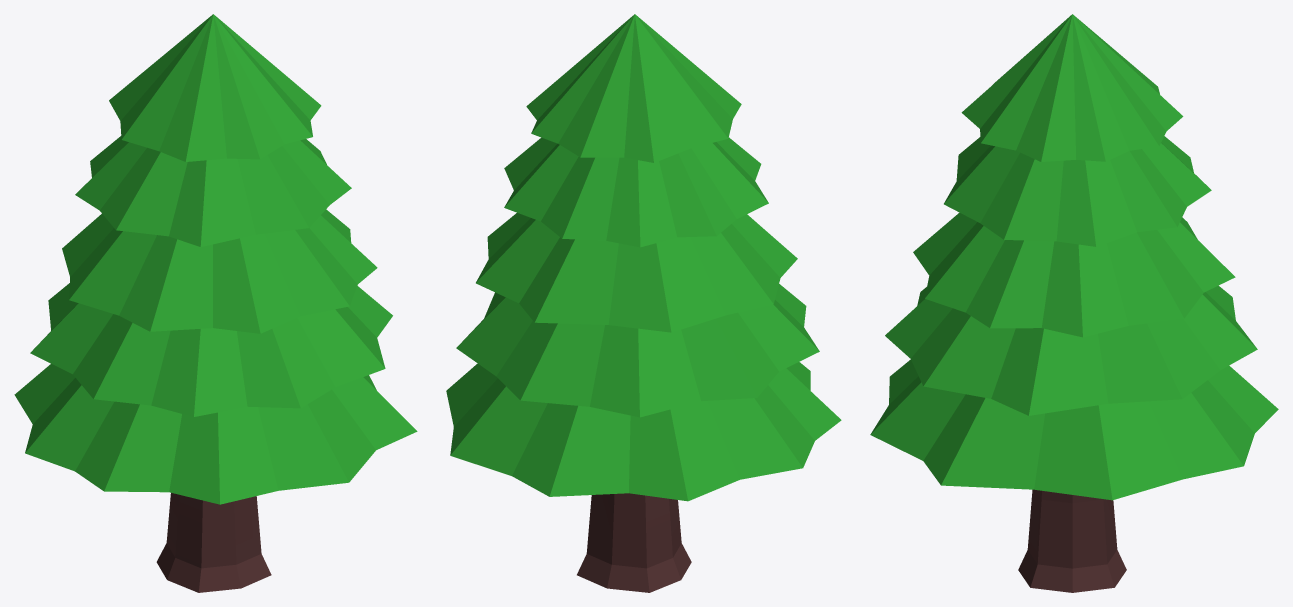
Rendered from Tree2.fbx.
3 renders of one model, left to right at view 1: azimuth 30°, elevation 25°; view 2: azimuth 150°, elevation 25°; view 3: azimuth 270°, elevation 25°, orthographic.
Visible parts, largest first — view 1: Cone_003, Cube; view 2: Cone_003, Cube; view 3: Cone_003, Cube.
Boxes of the visible parts, x1=… form: Cone_003: x1=14, y1=14, x2=417, y2=504; Cube: x1=156, y1=493, x2=271, y2=592; Cone_003: x1=446, y1=14, x2=841, y2=501; Cube: x1=577, y1=493, x2=691, y2=592; Cone_003: x1=870, y1=14, x2=1278, y2=500; Cube: x1=1018, y1=489, x2=1126, y2=592.
Bounding box in the file's own units: 805 × 1229 × 819.
